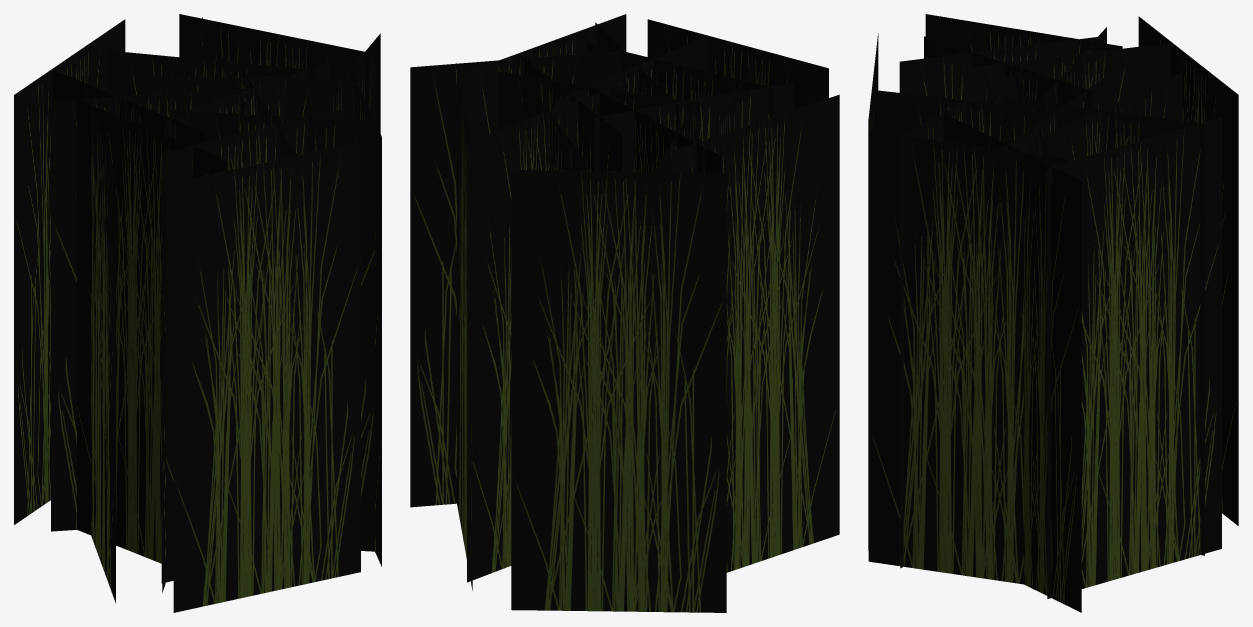
The model's file is space_grass_1.fbx.
3 renders of one model, left to right at view 1: azimuth 30°, elevation 25°; view 2: azimuth 150°, elevation 25°; view 3: azimuth 270°, elevation 25°, orthographic. The views are drawn at different scales.
Visible parts, largest first — view 1: Cube_22; view 2: Cube_22; view 3: Cube_22.
Part boxes in pixels (x1=…): Cube_22: x1=14, y1=14, x2=381, y2=612; Cube_22: x1=410, y1=14, x2=839, y2=612; Cube_22: x1=868, y1=14, x2=1238, y2=612.
Bounding box in the file's own units: 97.22 × 117 × 90.79.
1 material, 1 textured.
